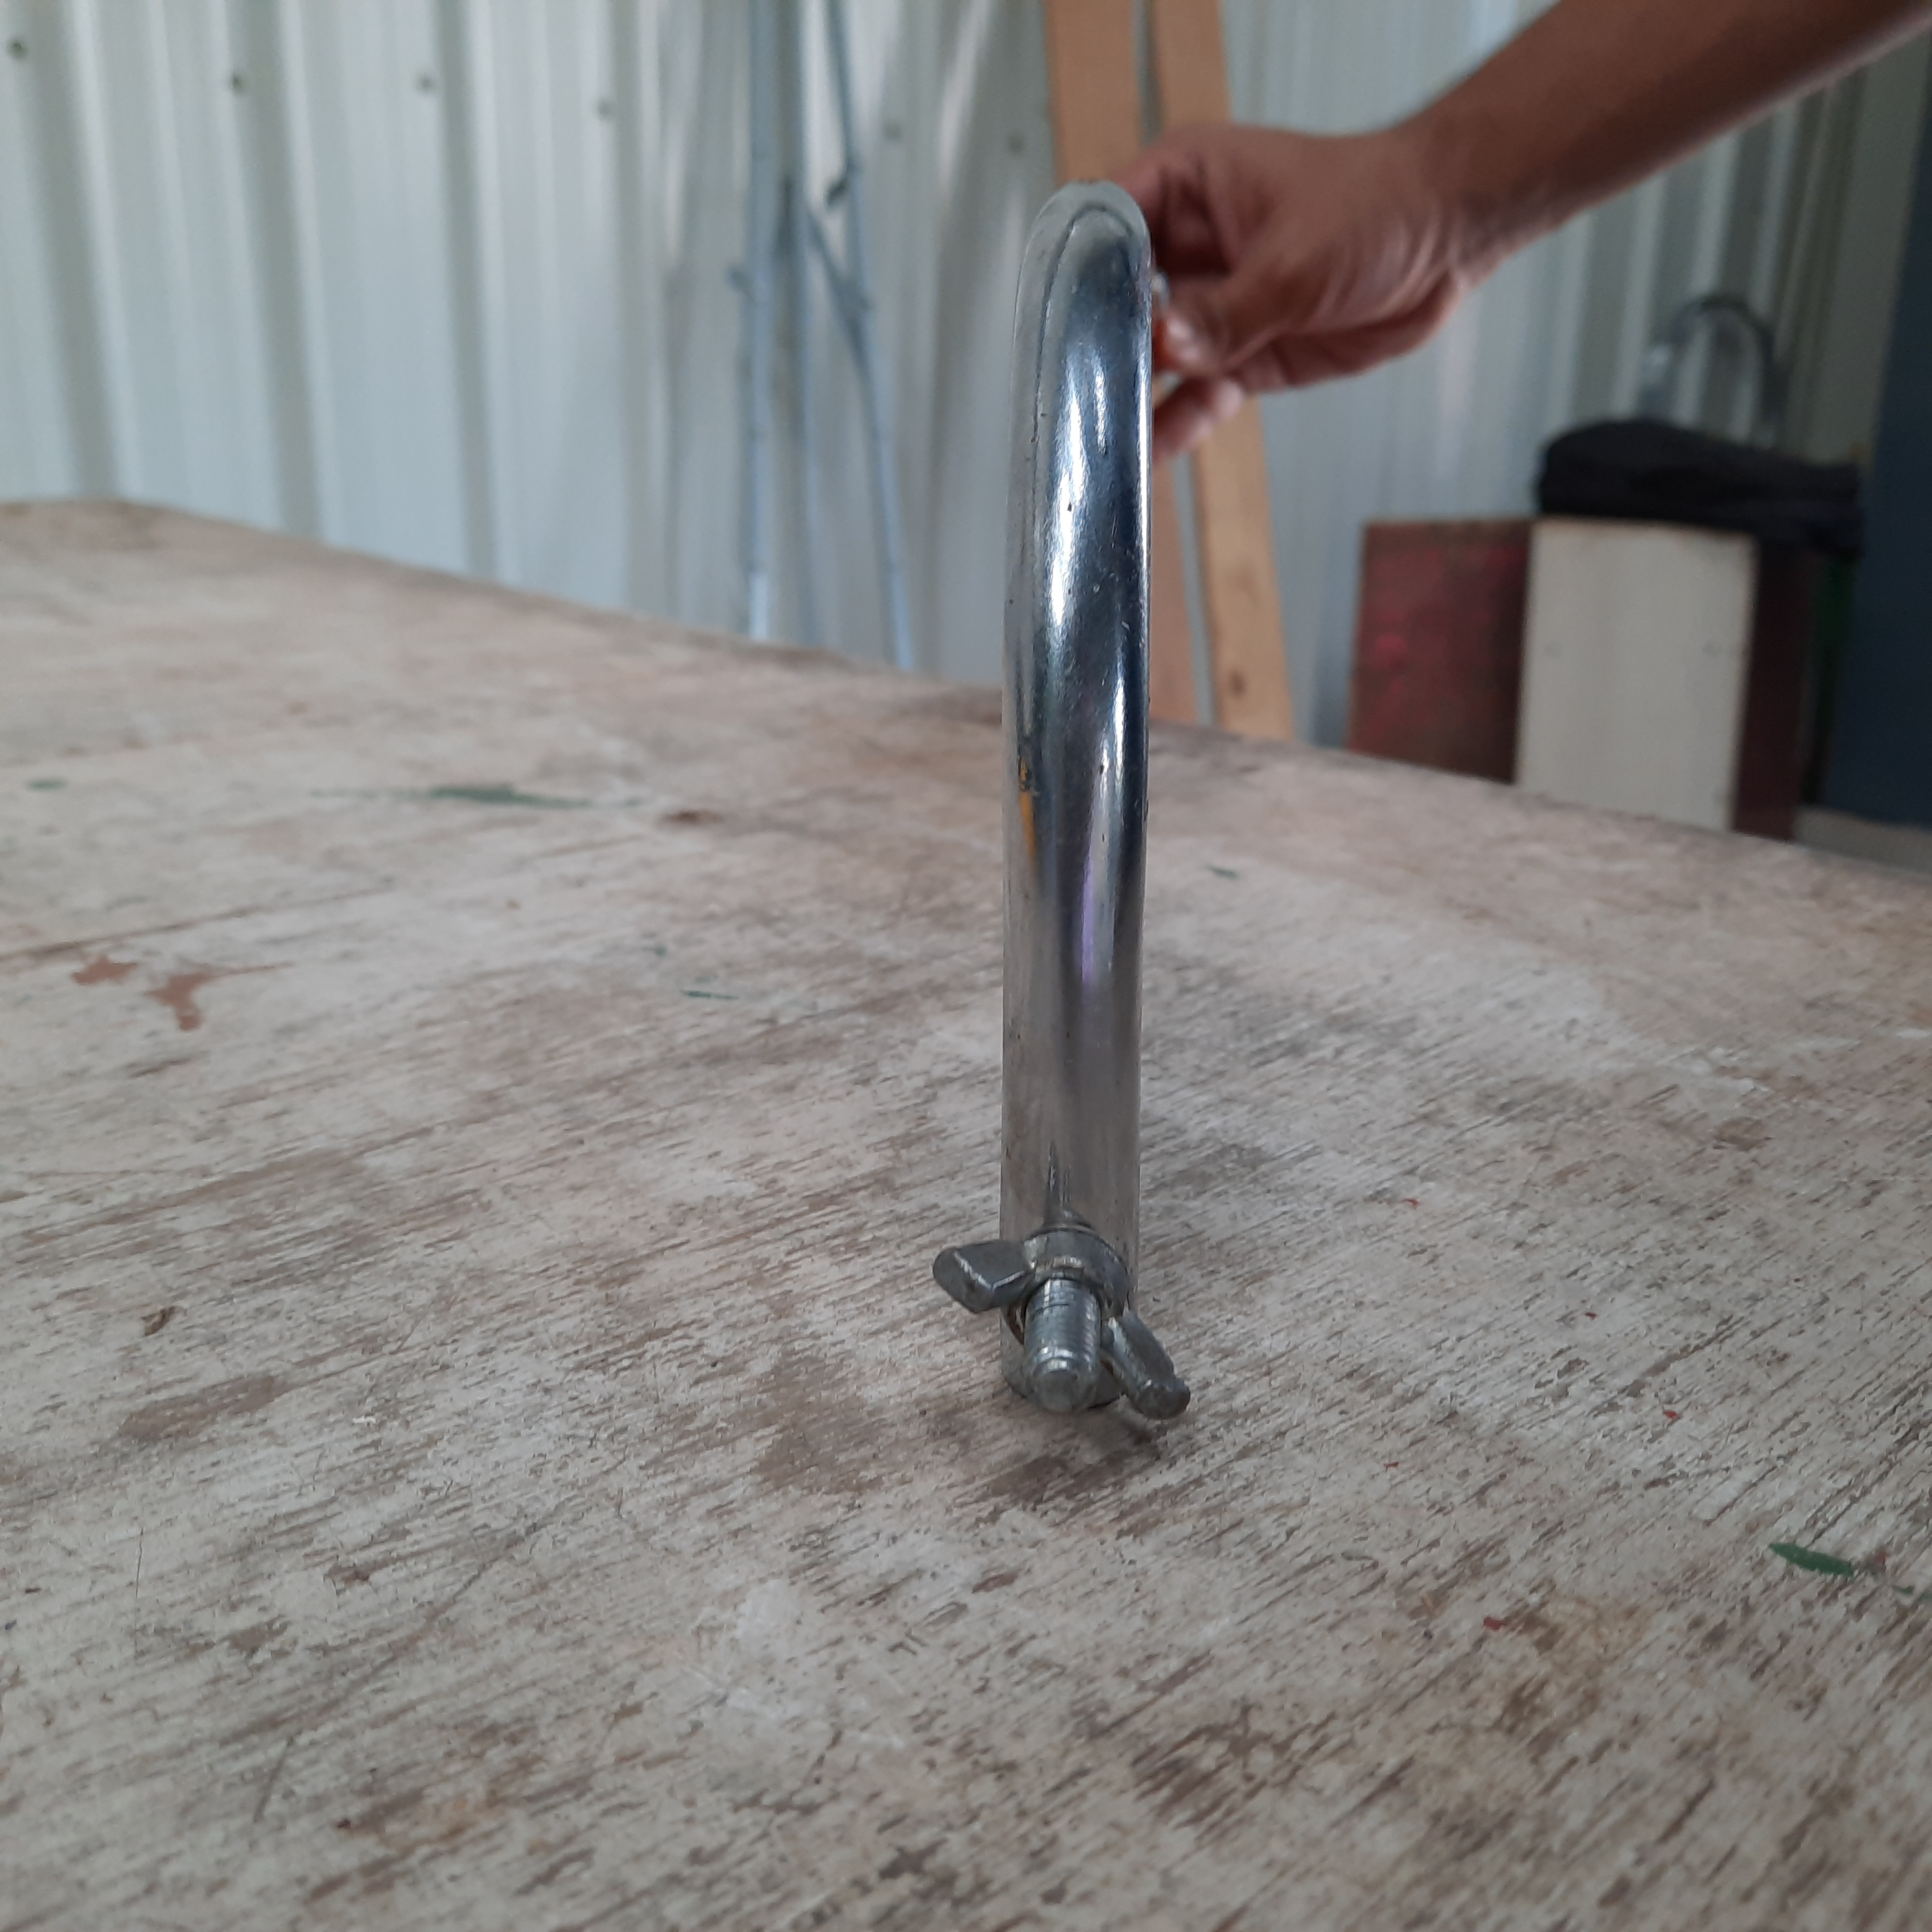Hexaframe: (913, 161, 1293, 1522)
